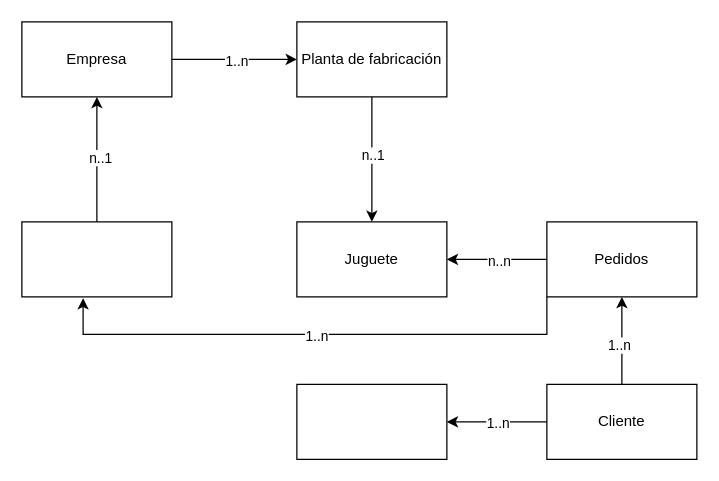
Image size: 719x481. Some labels were removed from this diagram. Here are the shapes that lost their labels. From the top down, the centre of each, then its label:
At pixel 96 259: "Promociones".
At pixel 371 421: "Direcciones de envío".
